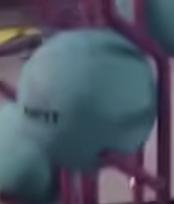algae: (18, 29, 156, 172), (0, 102, 58, 203), (113, 0, 174, 56)
